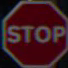Stop: (0, 2, 63, 64)
